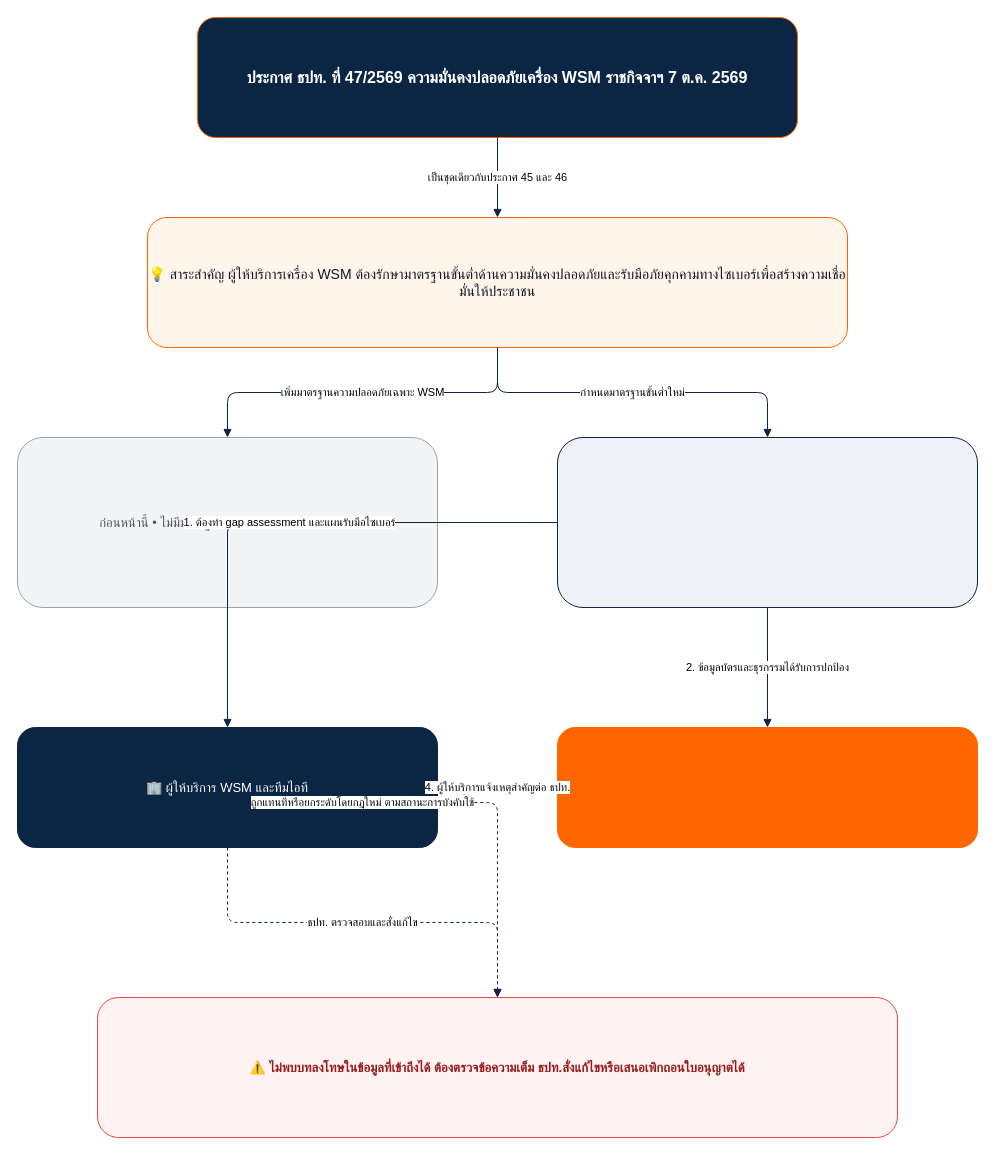
Some shapes in this 995 by 1155 pixel diagram are drawn without their labels. Here are the shapes that lost their labels. From the top down, the centre of each, then its label:
point 767,522: ประกาศ 47/2569 • มาตรฐานขั้นต่ำด้านความปลอดภัย • รับมือภัยไซเบอร์
point 767,787: 👤 ผู้ใช้เครื่อง WSM
